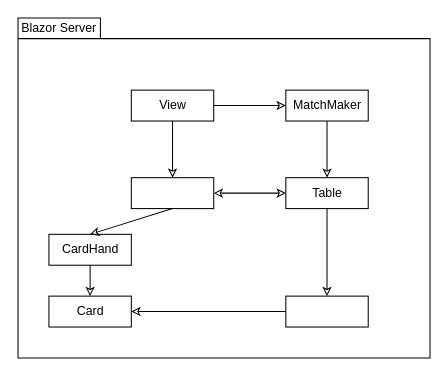
Image size: 448x376. Some labels were removed from this diagram. The shapes that lost their labels are listed below. From the top down, each one's centre as x and y in pixels, then its label:
the point at 172,193: Player
the point at 326,311: Deck
